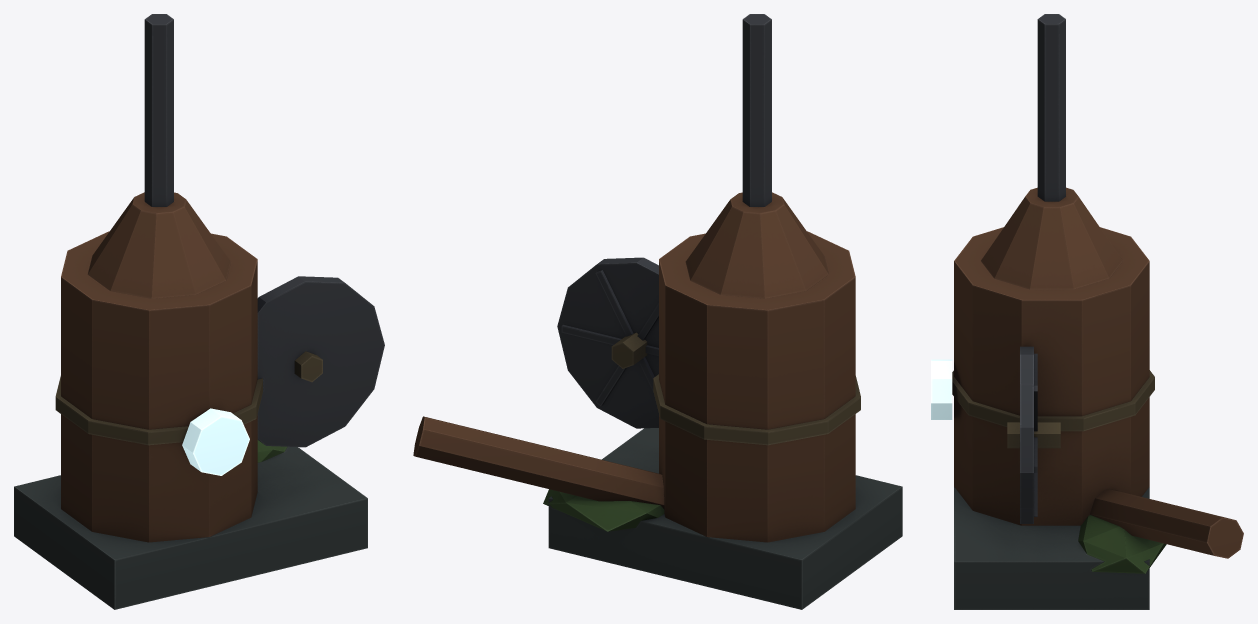
Rendered from decor_pump.glb.
The picture shows the model from 3 angles, left to right: view 1: azimuth 30°, elevation 25°; view 2: azimuth 150°, elevation 25°; view 3: azimuth 270°, elevation 25°; orthographic projection. The views are drawn at different scales.
Visible parts, largest first — view 1: decor_pump; view 2: decor_pump; view 3: decor_pump.
Boxes of the visible parts, x1,y1,x2,y2 form: decor_pump: [14, 14, 384, 609]; decor_pump: [413, 14, 902, 609]; decor_pump: [931, 14, 1243, 609].
Bounding box in the file's own units: 2.23 × 3.2 × 1.76.
1 material, 1 textured.
